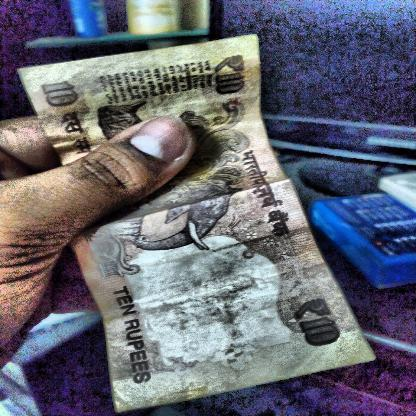Rs10: (286, 291, 352, 356), (206, 49, 256, 105)
